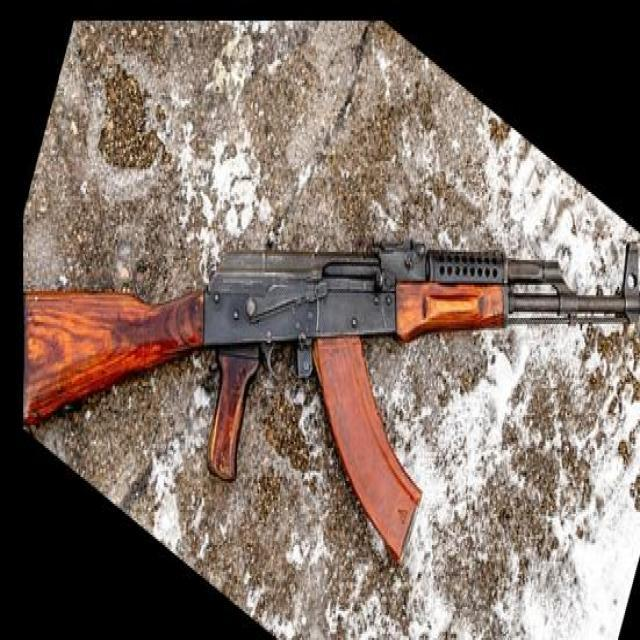weapon: (24, 240, 640, 564)
